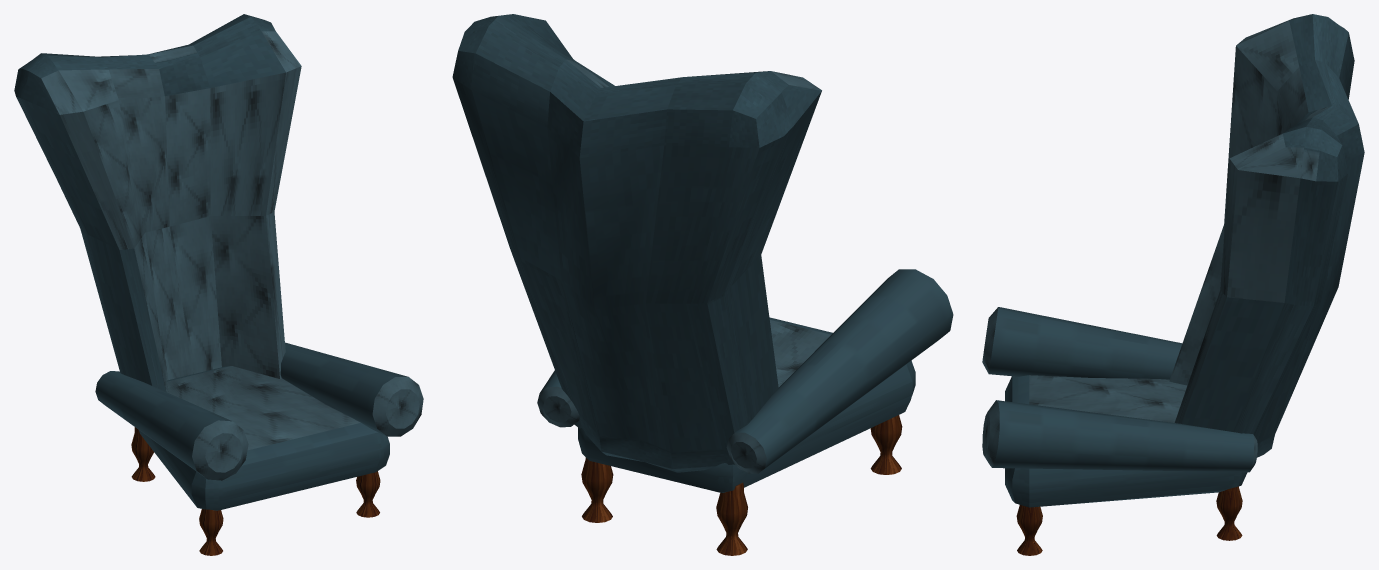
Rendered from Chair.fbx.
The picture shows the model from 3 angles, left to right: view 1: azimuth 30°, elevation 25°; view 2: azimuth 150°, elevation 25°; view 3: azimuth 270°, elevation 25°; orthographic projection. The views are drawn at different scales.
Visible parts, largest first — view 1: Chair; view 2: Chair; view 3: Chair.
Part boxes in pixels (x1=…): Chair: x1=14, y1=14, x2=423, y2=555; Chair: x1=452, y1=14, x2=953, y2=555; Chair: x1=982, y1=14, x2=1364, y2=555.
Size of the model in its own units: 0.855 by 1.3 by 1.03.
